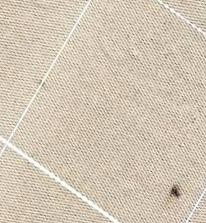stain: (165, 181, 184, 202)
